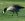goose: (1, 2, 25, 17)
